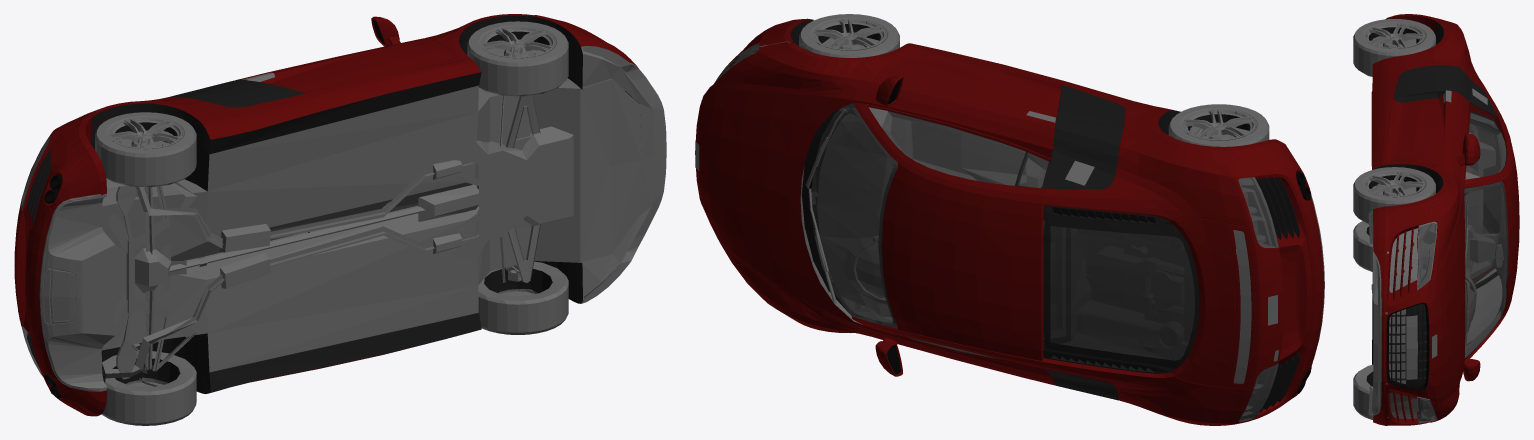
3 renders of one model, left to right at view 1: azimuth 30°, elevation 25°; view 2: azimuth 150°, elevation 25°; view 3: azimuth 270°, elevation 25°, orthographic. The views are drawn at different scales.
Parts seen in each view (by area): view 1: body_d.002, bumper_r03.002, bumper_r04.002, bumpe3.002, door_right.002, skirt_left.002, body_a.002, wheel1.002, wheel4.002, wheel8.002, skirt.002, skirt_righ.002 (+9 smaller); view 2: body_e.002, hood_a02.002, windo.002, window_r04.002, base_d.002, door_right.002, window_f04.002, bumper_r04.002, body_a.002, trunk_a.002, trunk_b.002, window_fro.002 (+17 smaller); view 3: hood_a02.002, window_f04.002, bumpe5.002, body_e.002, door_right.002, base_d.002, body_a.002, wheel1.002, wheel4.002, bumper_fro.002, bumpe4.002, bumpe3.002 (+29 smaller).
Part boxes in pixels (x1,y1,x2,y2): body_d.002: (101, 17, 641, 379); bumper_r03.002: (39, 193, 115, 391); bumper_r04.002: (23, 118, 106, 416); bumpe3.002: (581, 45, 666, 303); door_right.002: (235, 38, 464, 97); skirt_left.002: (202, 313, 481, 393); body_a.002: (91, 80, 305, 393); wheel1.002: (95, 112, 196, 187); wheel4.002: (467, 21, 568, 96); wheel8.002: (102, 351, 196, 425); skirt.002: (202, 62, 481, 139); skirt_righ.002: (202, 72, 481, 154); body_e.002: (852, 81, 1283, 425); hood_a02.002: (695, 42, 881, 336); windo.002: (1043, 215, 1199, 372); window_r04.002: (1050, 226, 1194, 360); base_d.002: (817, 104, 1048, 335); door_right.002: (867, 45, 1061, 161); window_f04.002: (817, 113, 892, 323); bumper_r04.002: (1223, 139, 1324, 424); body_a.002: (802, 84, 1169, 400); trunk_a.002: (1170, 217, 1235, 387); trunk_b.002: (1043, 205, 1199, 373); window_fro.002: (882, 111, 1025, 185); hood_a02.002: (1426, 163, 1465, 422); window_f04.002: (1464, 186, 1506, 357); bumpe5.002: (1373, 196, 1432, 425); body_e.002: (1386, 19, 1519, 363); door_right.002: (1382, 91, 1470, 179); base_d.002: (1464, 113, 1508, 357); body_a.002: (1393, 21, 1497, 281); wheel1.002: (1353, 19, 1435, 76); wheel4.002: (1353, 167, 1435, 224); bumper_fro.002: (1388, 304, 1427, 388); bumpe4.002: (1389, 228, 1418, 418); bumpe3.002: (1368, 210, 1381, 421).
Bounding box in the file's own units: 506 × 234 × 144.
